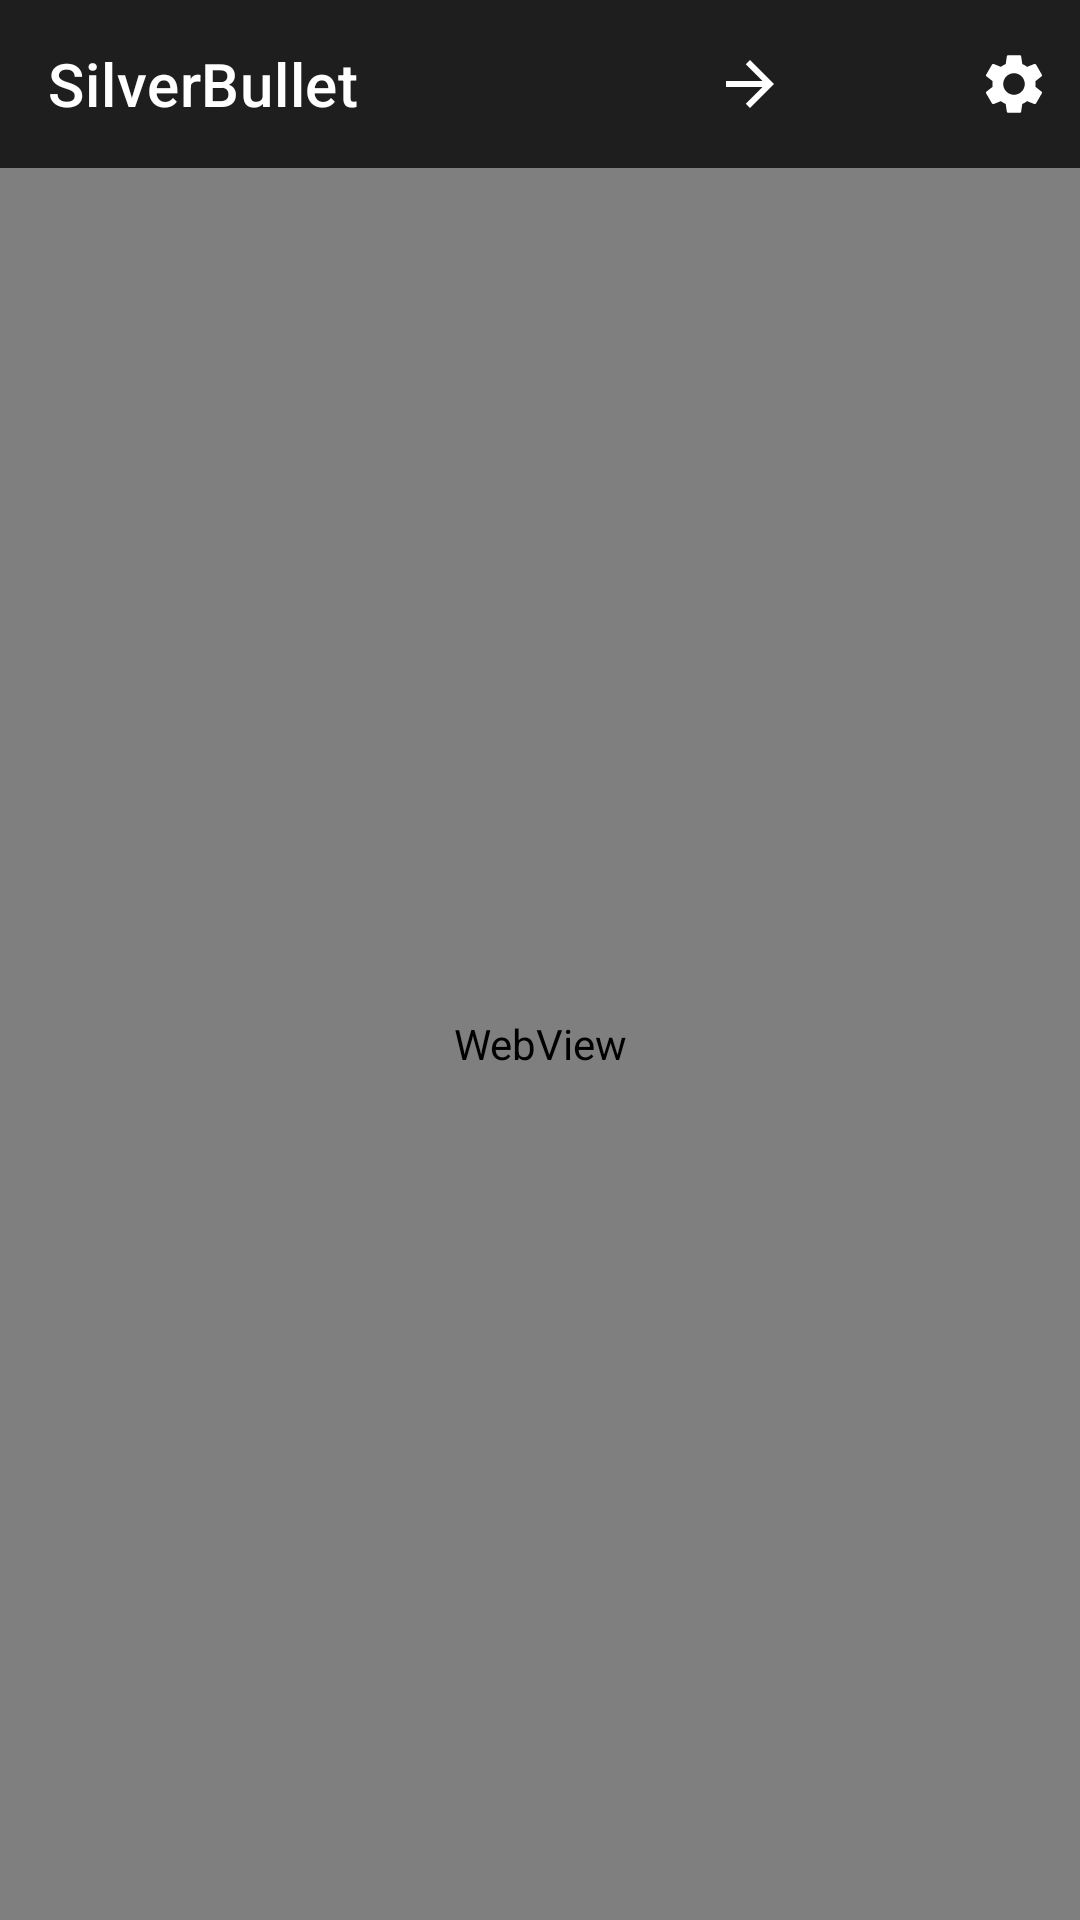

Where to tap for icons on this 1080px×1920px app screen, as [x,y]:
Forward: [750,84]
Settings: [1014,84]
